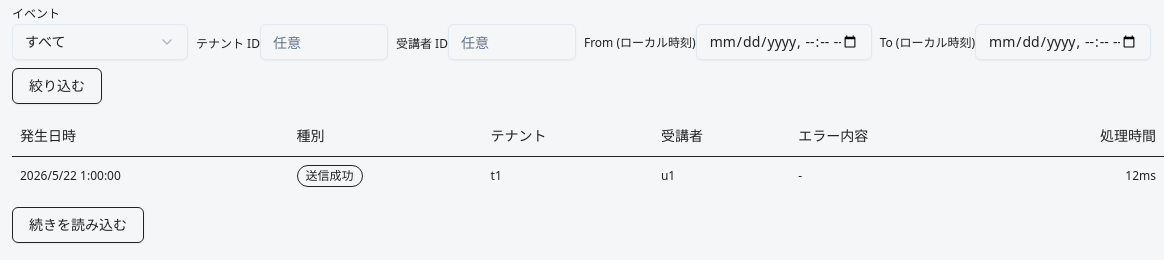
Scenario: AuditLogTable › nextCursor があれば「次の件を読み込む」で append する
This screenshot has width=1164, height=260.
Check: the text "送信成功" is shown, box top-left (296, 164), bottom-right (362, 186)
Click the button "続きを読み込む" at x=78, y=224, box top-left (12, 206), bottom-right (144, 242)
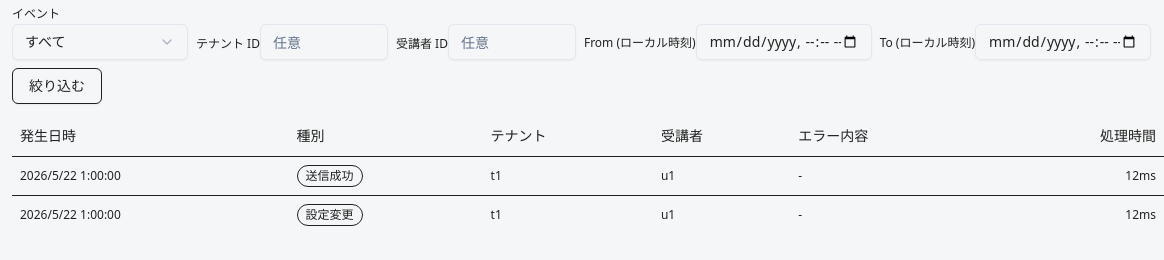
Check: the text "送信成功" is shown, box top-left (296, 164), bottom-right (362, 186)
Check: the text "設定変更" is shown, box top-left (296, 204), bottom-right (362, 226)
